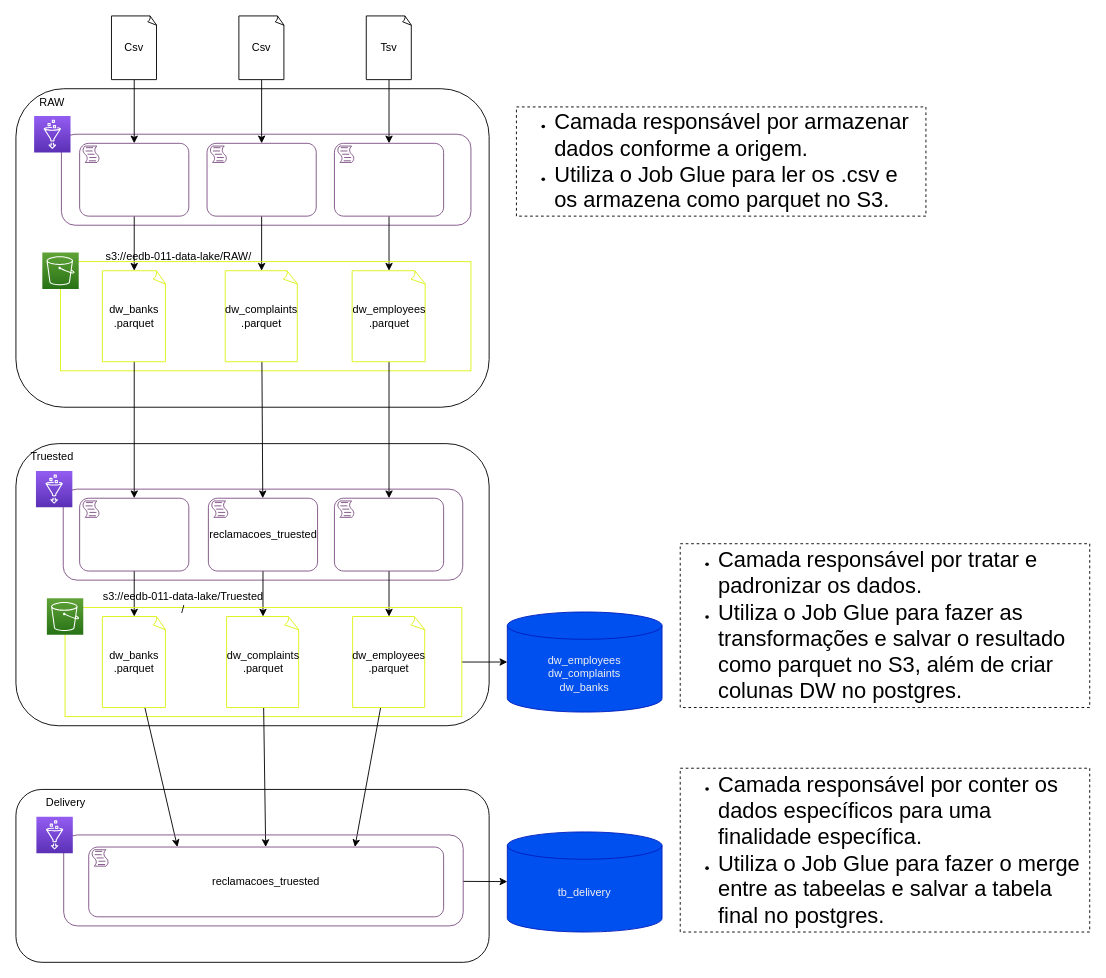
Image size: 1106x978. Some labels were removed from this diagram. Each missing label, with the centre of its shape:
"bancos_raw" goes at pixel 389 179.
"bancos_truested" goes at pixel 389 534.
"empregados_raw" goes at pixel 134 179.
"empregados_truested" goes at pixel 134 534.
"reclamacoes_raw" goes at pixel 261 179.
